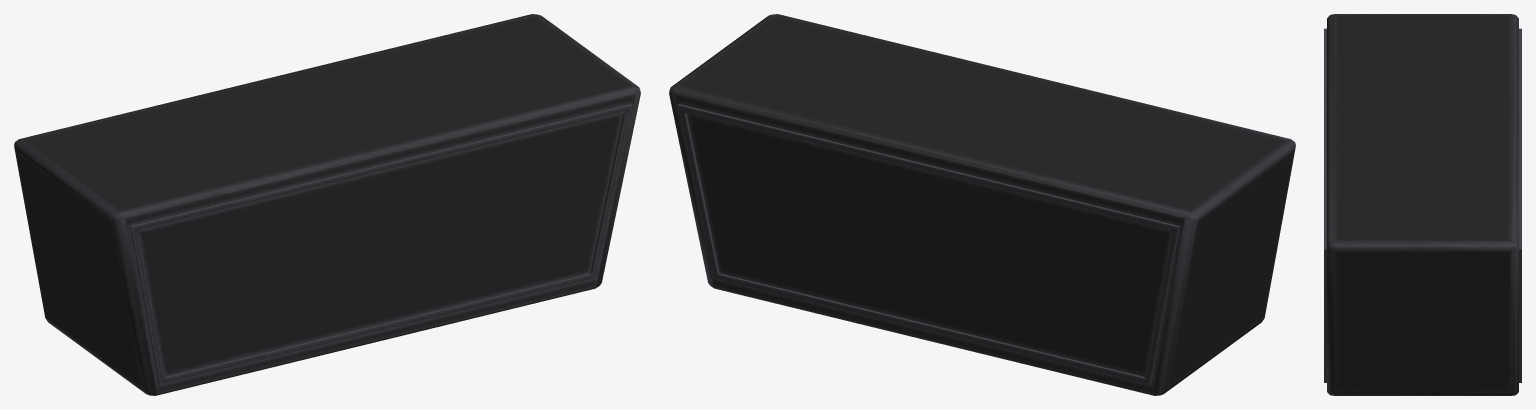
File: AT_SARMag.fbx
3 renders of one model, left to right at view 1: azimuth 30°, elevation 25°; view 2: azimuth 150°, elevation 25°; view 3: azimuth 270°, elevation 25°, orthographic. The views are drawn at different scales.
Parts seen in each view (by area): view 1: AT_SARMag; view 2: AT_SARMag; view 3: AT_SARMag.
Boxes of the visible parts, left/top/right/bottom form: AT_SARMag: left=14, top=14, right=640, bottom=395; AT_SARMag: left=669, top=14, right=1295, bottom=395; AT_SARMag: left=1324, top=14, right=1521, bottom=395.
Bounding box in the file's own units: 0.109 × 0.0377 × 0.0392.
Materials: 1 (1 with a texture image).
